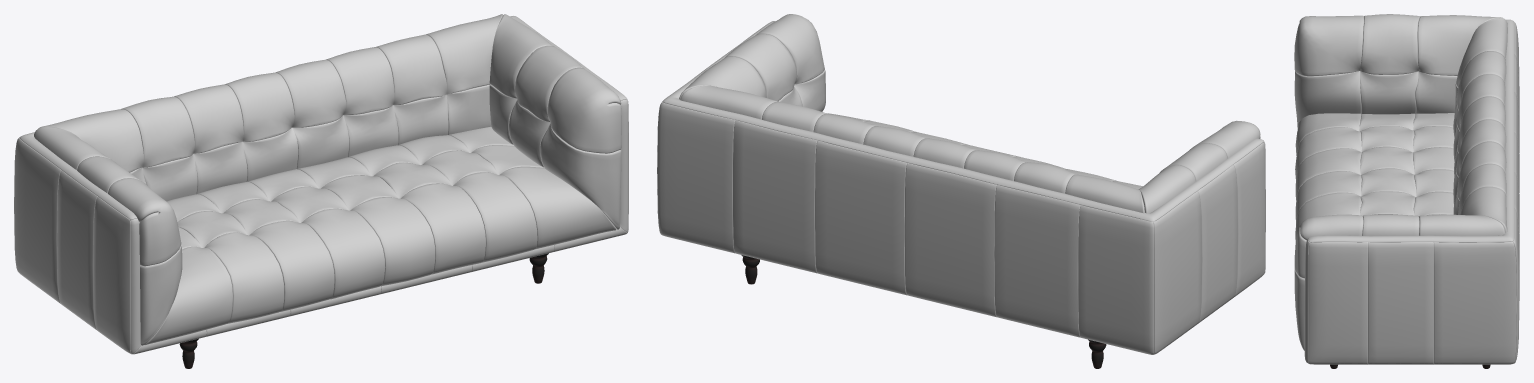
3 views of the same model, side by side, from view 1: azimuth 30°, elevation 25°; view 2: azimuth 150°, elevation 25°; view 3: azimuth 270°, elevation 25° (orthographic). The views are drawn at different scales.
Parts seen in each view (by area): view 1: Sofa; view 2: Sofa; view 3: Sofa.
Boxes of the visible parts, x1,y1,x2,y2 form: Sofa: [14, 14, 628, 368]; Sofa: [657, 14, 1265, 368]; Sofa: [1294, 14, 1519, 368].
Size of the model in its own units: 219 by 78.73 by 92.27.
